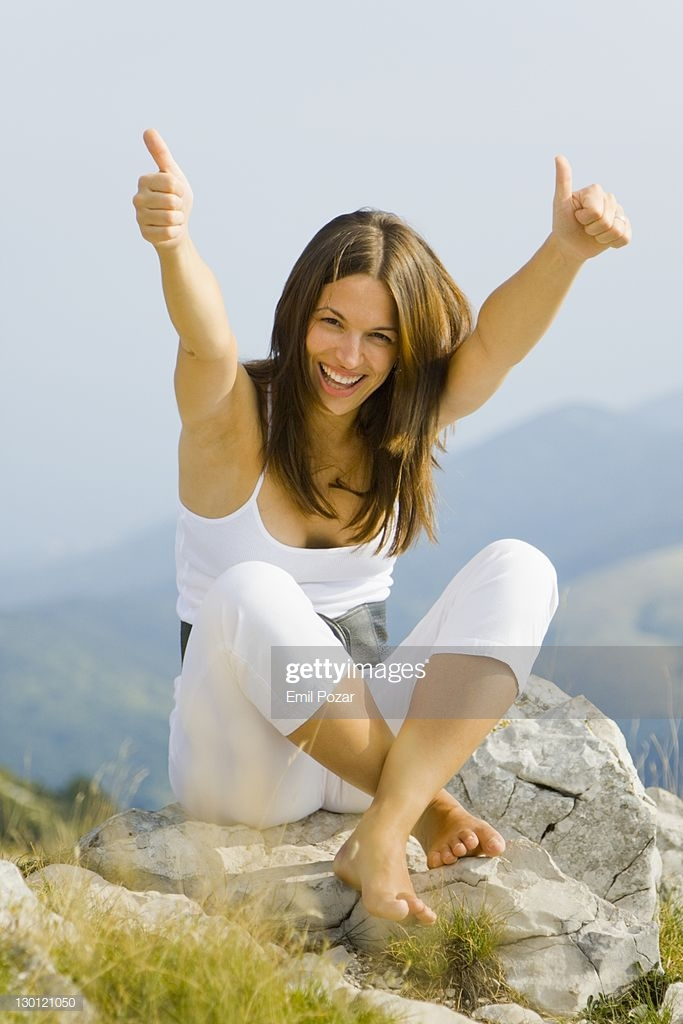thumbsup: (553, 155, 633, 249), (132, 128, 187, 243)
